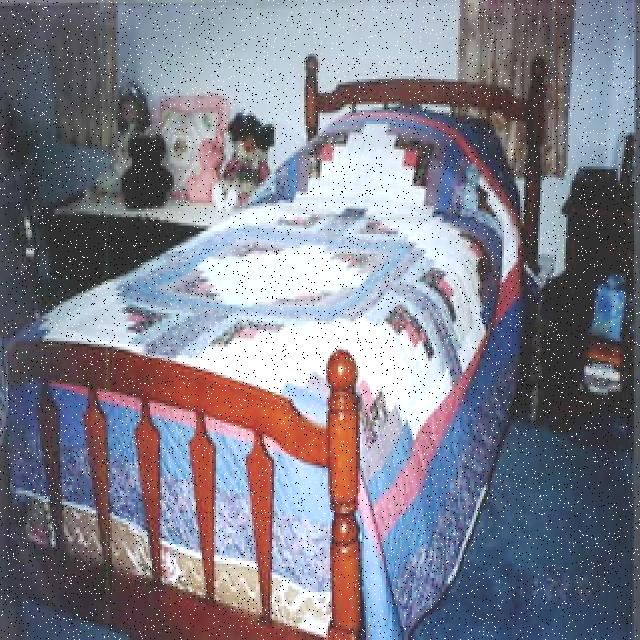bed: (5, 61, 560, 620)
